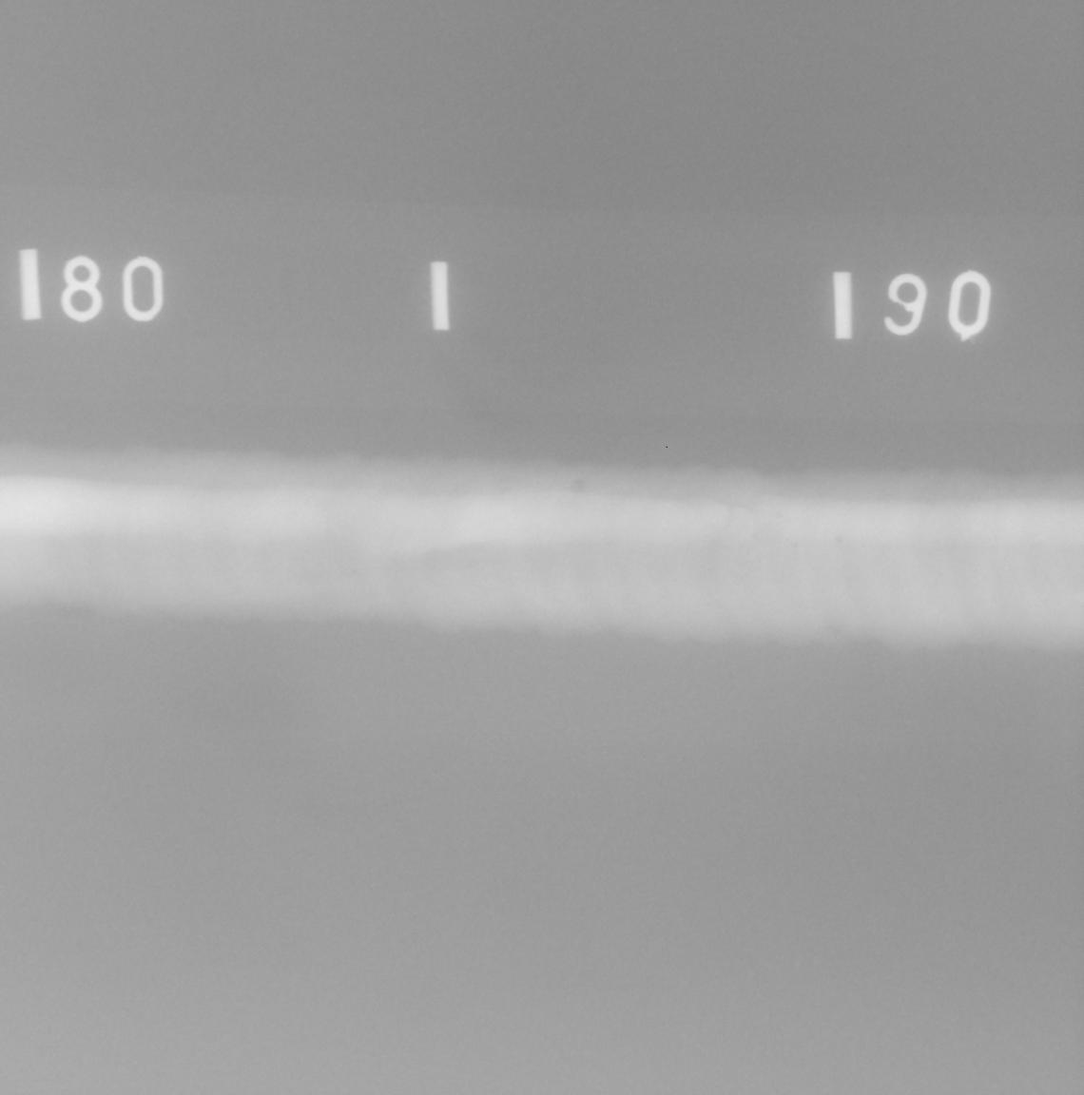Inclusion: (829, 626, 839, 635)
Pore/Porosity: (572, 480, 584, 493), (466, 559, 477, 568), (835, 535, 842, 545), (793, 542, 798, 547), (776, 513, 781, 517), (353, 570, 357, 573)
